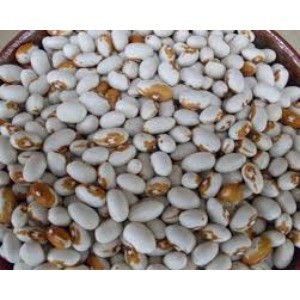beans_brain food: (68, 95, 220, 224)
